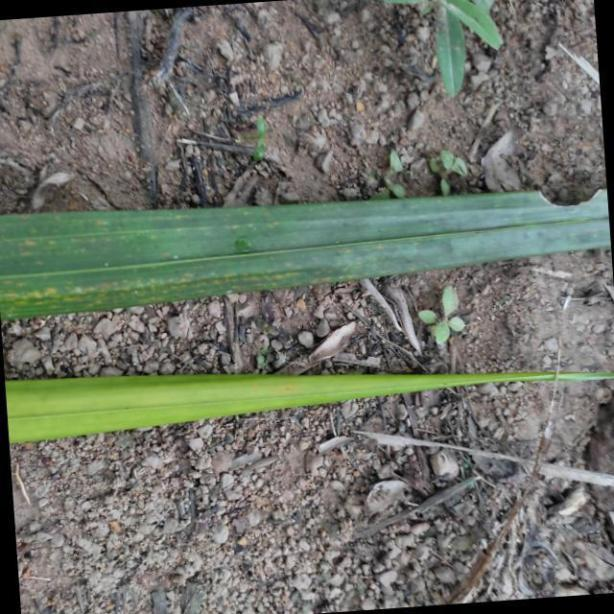nitrogen: (0, 369, 614, 443)
